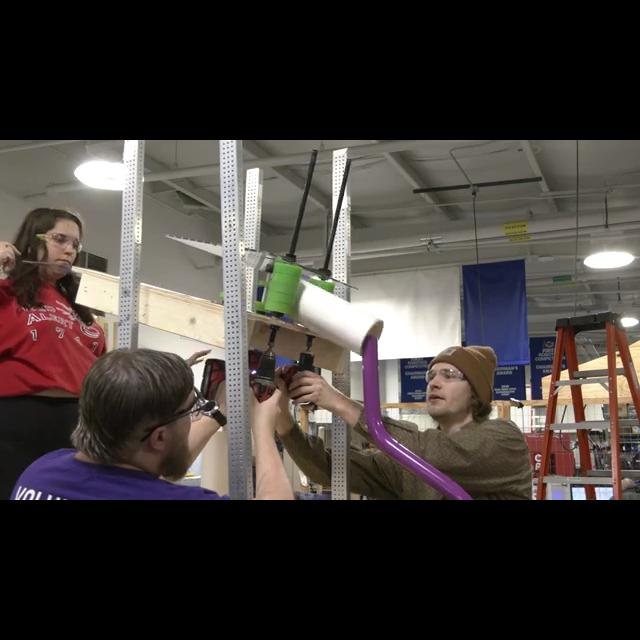CORAL: (256, 256, 384, 356)
